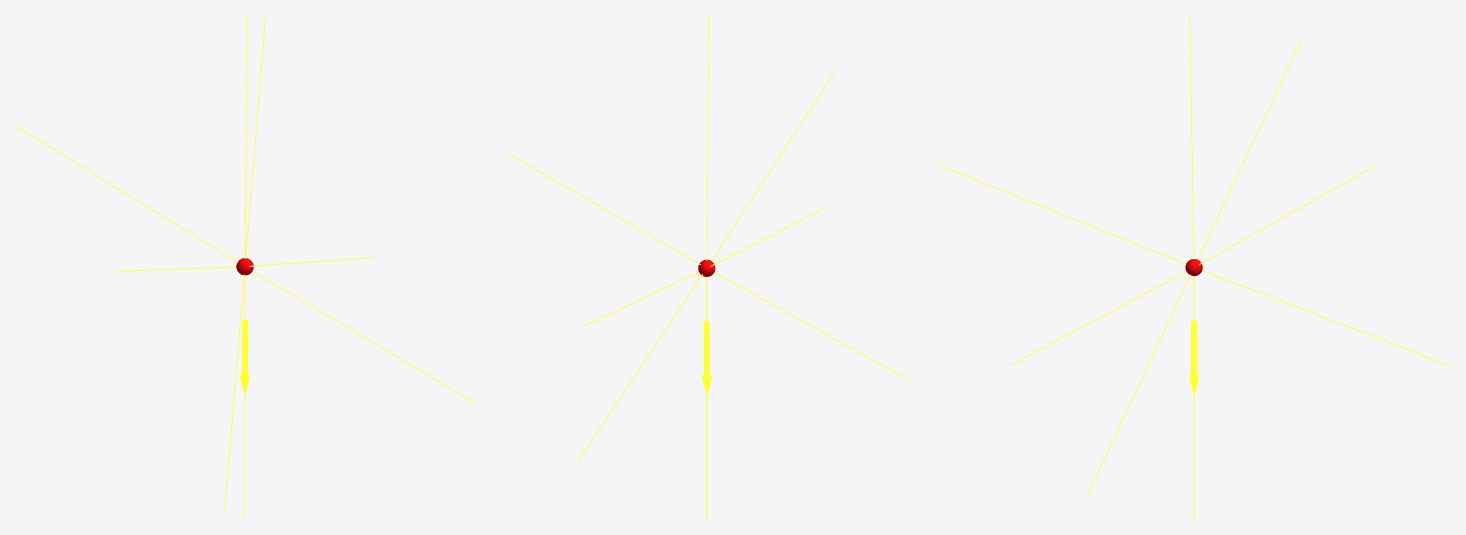
The model's file is ligne-champ.glb.
3 renders of one model, left to right at view 1: azimuth 30°, elevation 25°; view 2: azimuth 150°, elevation 25°; view 3: azimuth 270°, elevation 25°, orthographic.
Visible parts, largest first — view 1: no part large enough to name; view 2: Cylinder.008; view 3: no part large enough to name.
Part boxes in pixels (x1=…): Cylinder.008: x1=702, y1=321, x2=711, y2=396.
Size of the model in its own units: 5.88 by 8.04 by 7.38.
